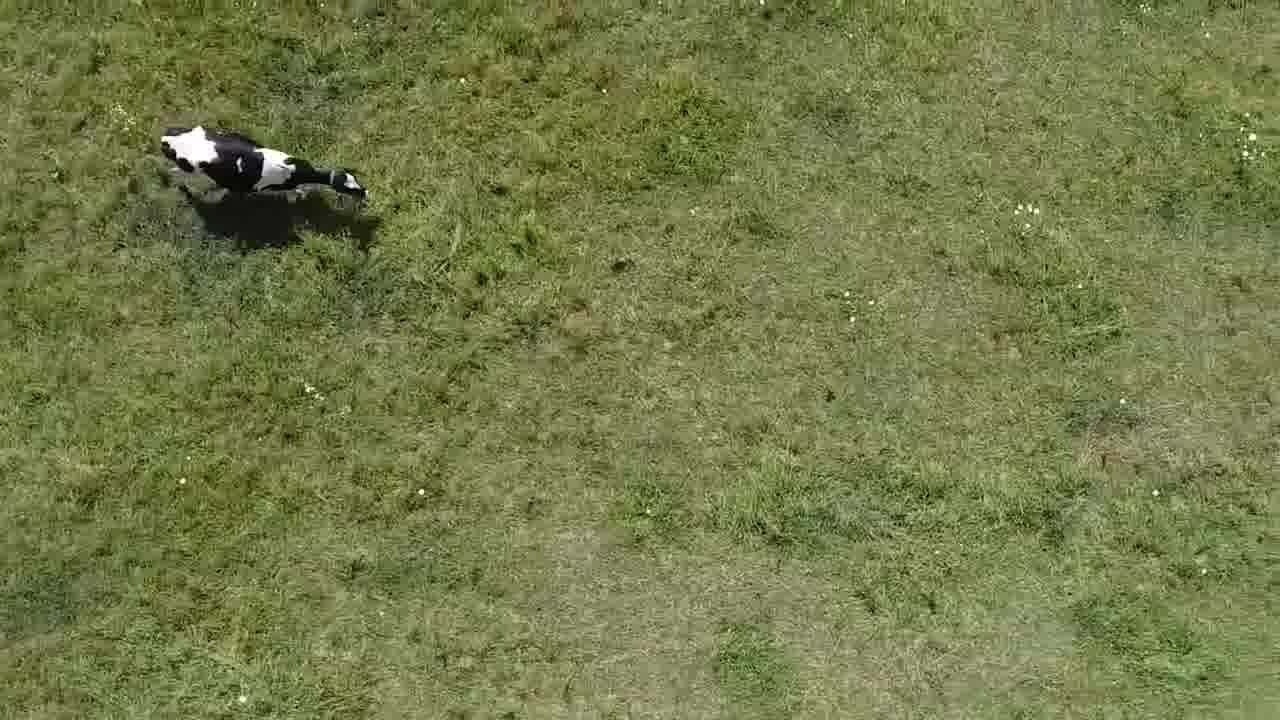cow: (161, 111, 373, 220)
